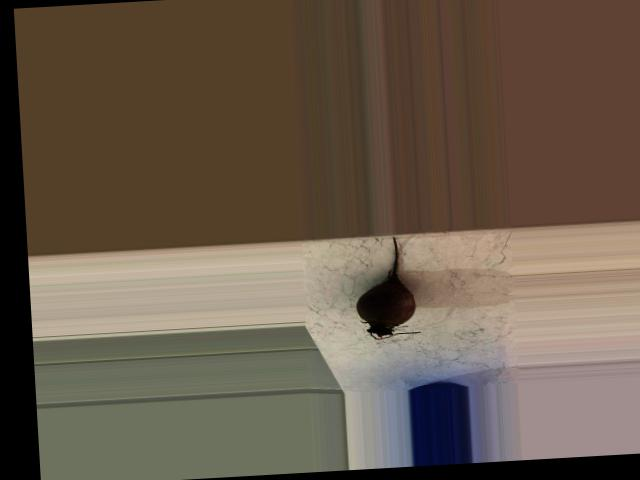beet: (353, 235, 422, 340)
